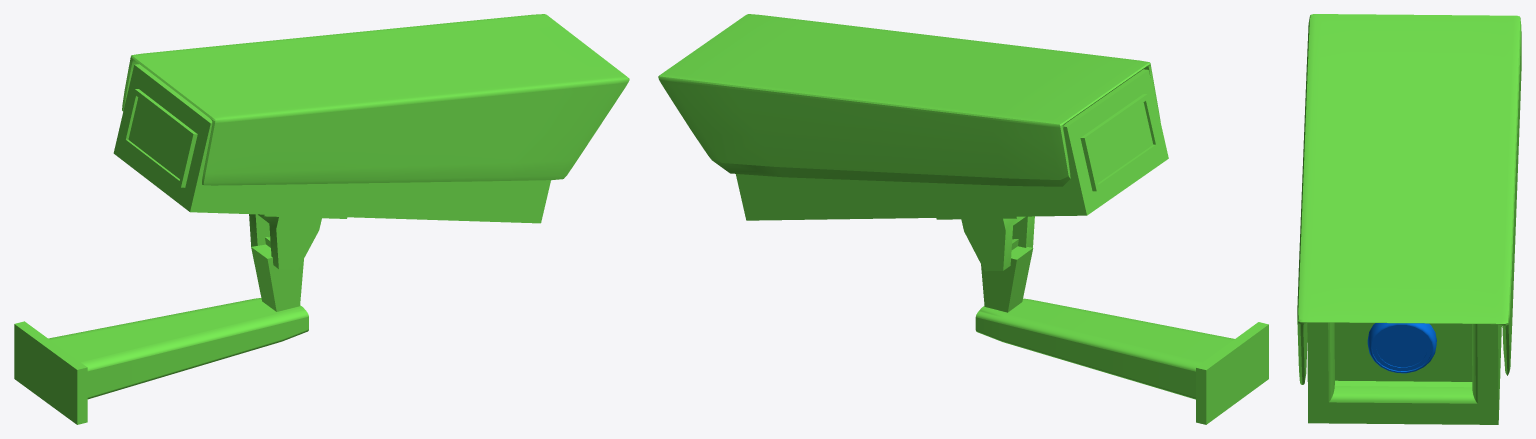
The model's file is SecurityCam.fbx.
3 renders of one model, left to right at view 1: azimuth 30°, elevation 25°; view 2: azimuth 150°, elevation 25°; view 3: azimuth 270°, elevation 25°, orthographic. The views are drawn at different scales.
Visible parts, largest first — view 1: Cube.005; view 2: Cube.005; view 3: Cube.005.
Boxes of the visible parts, x1,y1,x2,y2 form: Cube.005: (14,14,629,424); Cube.005: (658,14,1268,424); Cube.005: (1297,14,1521,424).
Bounding box in the file's own units: 64.21 × 31.79 × 19.18.
